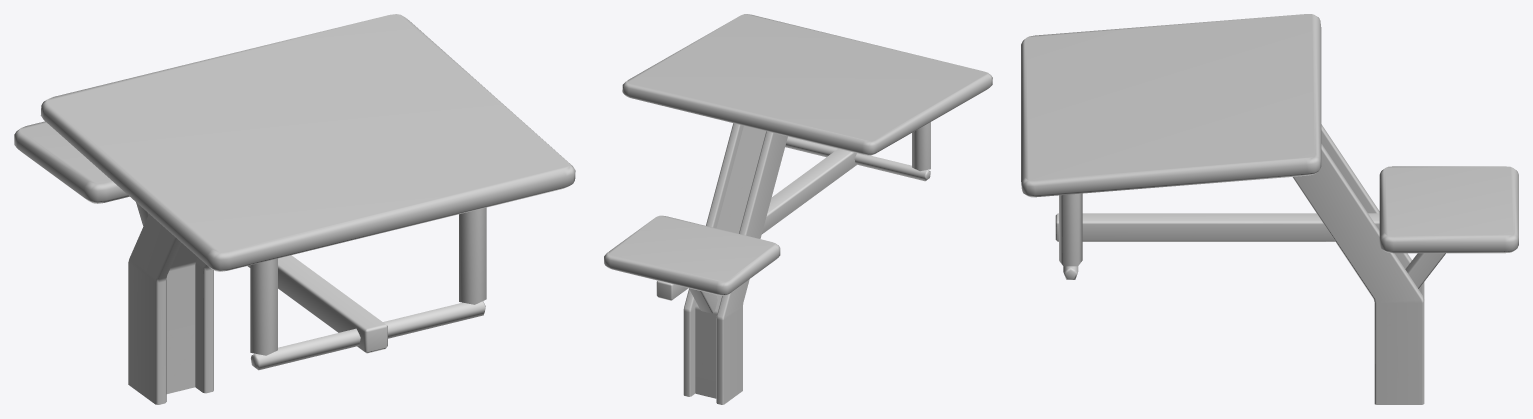
File: JumpPanel.FBX
The picture shows the model from 3 angles, left to right: view 1: azimuth 30°, elevation 25°; view 2: azimuth 150°, elevation 25°; view 3: azimuth 270°, elevation 25°; orthographic projection. The views are drawn at different scales.
Visible parts, largest first — view 1: Pool_Springboard; view 2: Pool_Springboard; view 3: Pool_Springboard.
Part boxes in pixels (left/top/right/bottom): Pool_Springboard: left=14, top=14, right=575, bottom=404; Pool_Springboard: left=604, top=14, right=992, bottom=404; Pool_Springboard: left=1021, top=14, right=1518, bottom=404.
Size of the model in its own units: 85.27 by 82.1 by 120.
